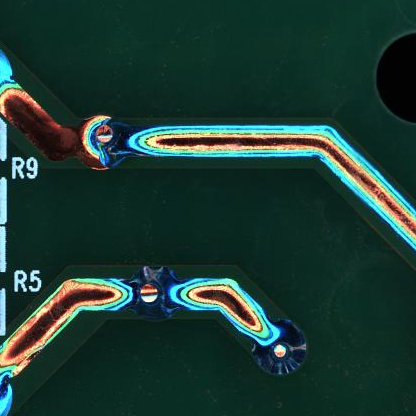spot: (252, 318, 308, 377), (77, 115, 131, 172), (127, 263, 177, 322)
